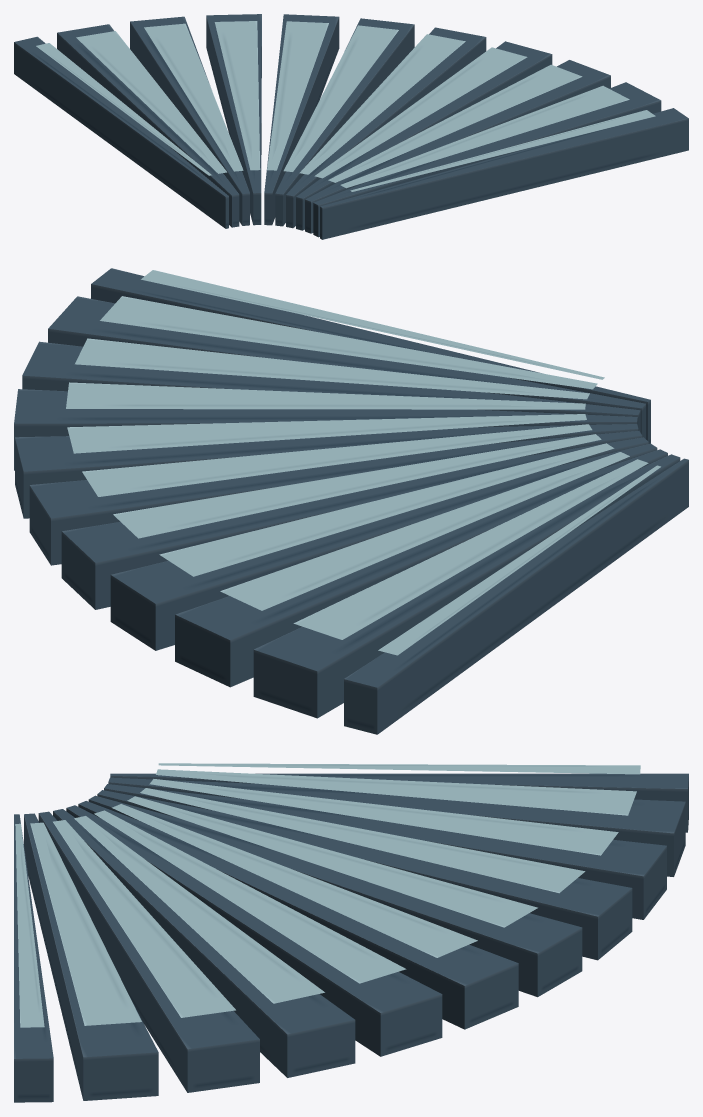
File: sc_tread_curve_left_15.obj
The picture shows the model from 3 angles, top to bottom: view 1: azimuth 30°, elevation 25°; view 2: azimuth 150°, elevation 25°; view 3: azimuth 270°, elevation 25°; orthographic projection. The views are drawn at different scales.
Bounding box in the file's own units: 17.5 × 1.56 × 17.5.
Materials: 1 (1 with a texture image).
